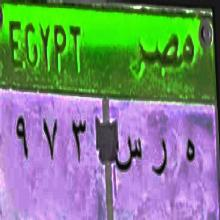3: (71, 110, 88, 172)
7: (42, 115, 60, 168)
9: (14, 109, 31, 170)
haa: (177, 122, 201, 175)
raa: (150, 130, 170, 187)
seen: (114, 132, 144, 174)
